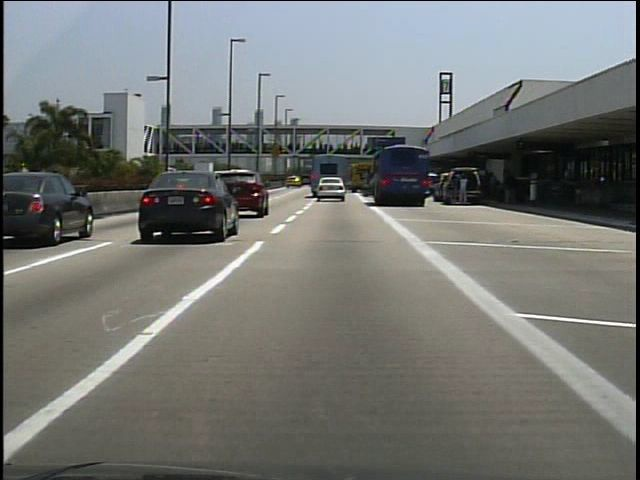person: (503, 170, 519, 210), (457, 173, 471, 210)
